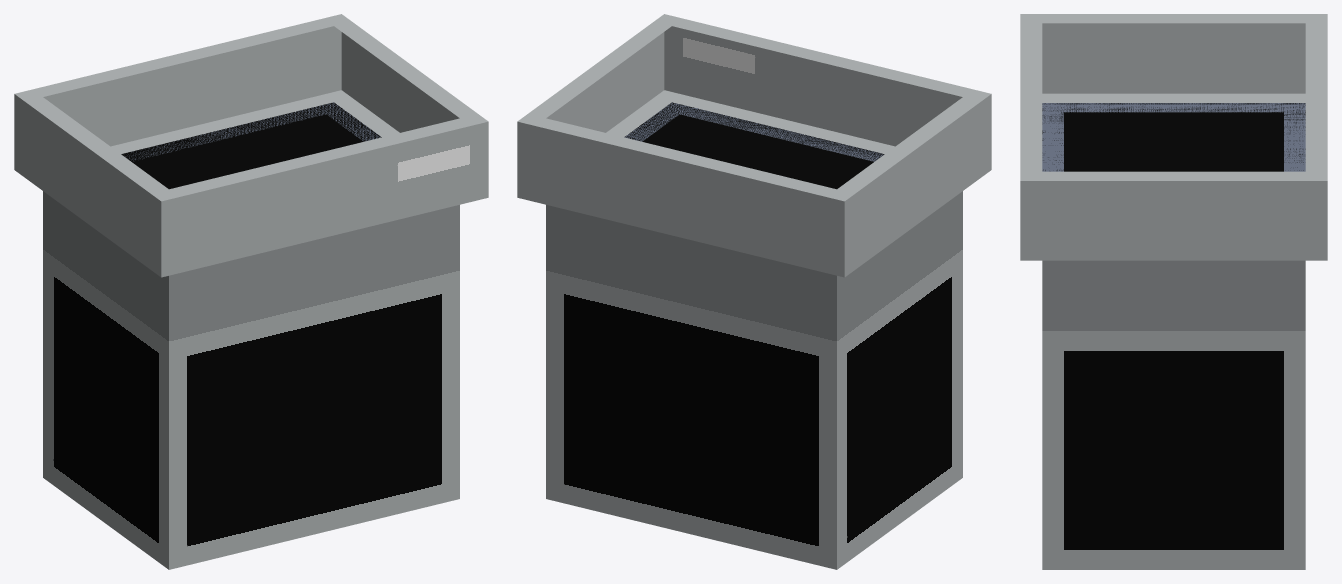
The model's file is leaf_crusher.gltf.
3 renders of one model, left to right at view 1: azimuth 30°, elevation 25°; view 2: azimuth 150°, elevation 25°; view 3: azimuth 270°, elevation 25°, orthographic. The views are drawn at different scales.
Visible parts, largest first — view 1: base, hopper; view 2: base, hopper; view 3: base, hopper.
Part boxes in pixels (bbox=[...]): base: bbox=[43, 102, 459, 569]; hopper: bbox=[14, 14, 488, 277]; base: bbox=[546, 102, 962, 569]; hopper: bbox=[517, 14, 991, 277]; base: bbox=[1042, 103, 1305, 569]; hopper: bbox=[1020, 14, 1327, 260].
Bounding box in the file's own units: 1.12 × 1.25 × 0.875.
2 materials, 2 textured.
